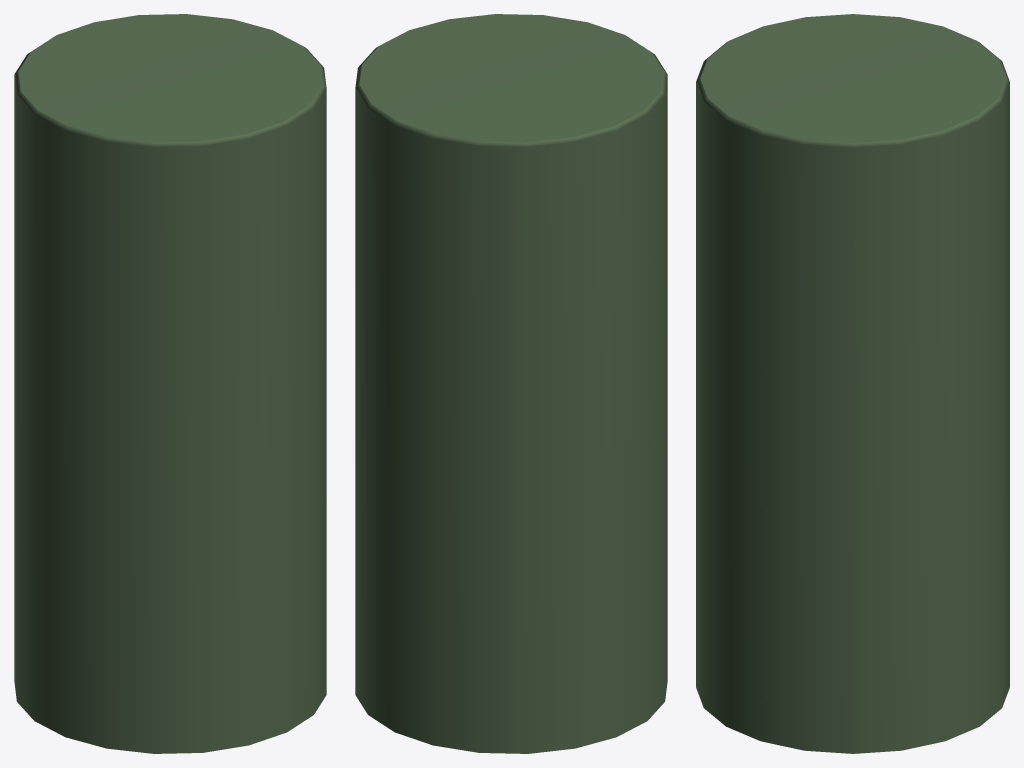
File: Checker_Sp_Tube_01.fbx
3 renders of one model, left to right at view 1: azimuth 30°, elevation 25°; view 2: azimuth 150°, elevation 25°; view 3: azimuth 270°, elevation 25°, orthographic.
Visible parts, largest first — view 1: Checker_Sp_Tube_01; view 2: Checker_Sp_Tube_01; view 3: Checker_Sp_Tube_01.
Part boxes in pixels (x1=…): Checker_Sp_Tube_01: x1=14, y1=14, x2=326, y2=753; Checker_Sp_Tube_01: x1=355, y1=14, x2=667, y2=753; Checker_Sp_Tube_01: x1=696, y1=14, x2=1009, y2=753.
Bounding box in the file's own units: 3.72 × 7.99 × 3.72.
